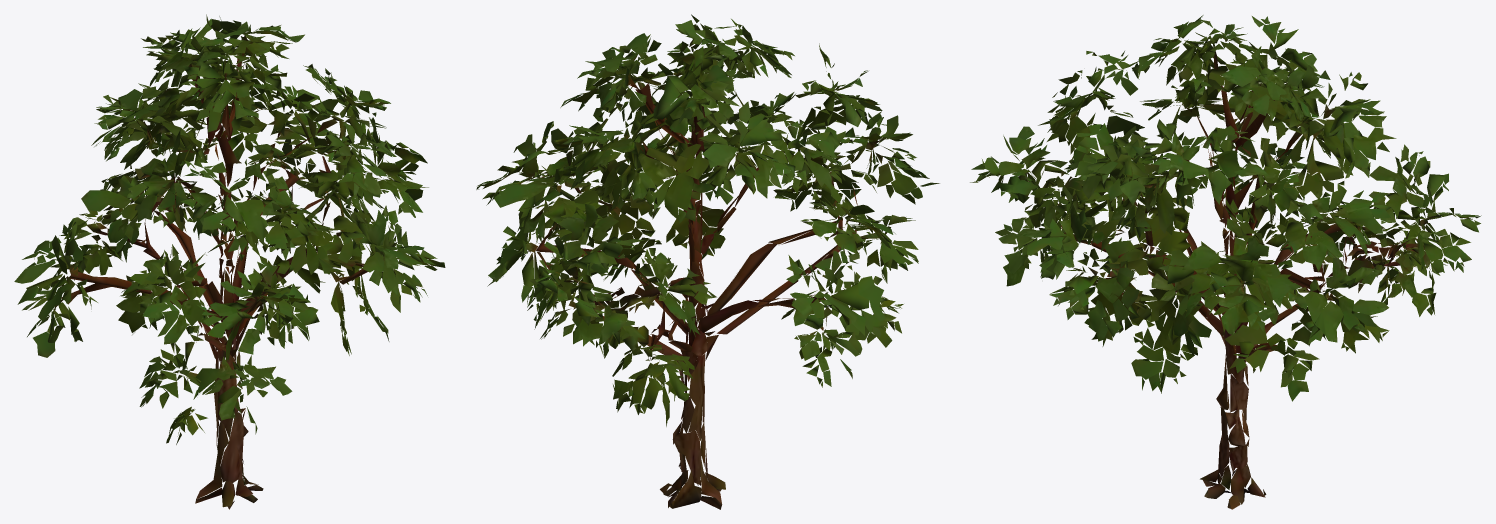
File: tree-oak.glb
3 views of the same model, side by side, from view 1: azimuth 30°, elevation 25°; view 2: azimuth 150°, elevation 25°; view 3: azimuth 270°, elevation 25° (orthographic).
Visible parts, largest first — view 1: tripo_node_8a83103f-0112-4e67-a68f-4468a4c6ffcc; view 2: tripo_node_8a83103f-0112-4e67-a68f-4468a4c6ffcc; view 3: tripo_node_8a83103f-0112-4e67-a68f-4468a4c6ffcc.
Part boxes in pixels (left/top/right/bottom): tripo_node_8a83103f-0112-4e67-a68f-4468a4c6ffcc: left=14, top=14, right=445, bottom=509; tripo_node_8a83103f-0112-4e67-a68f-4468a4c6ffcc: left=476, top=14, right=939, bottom=509; tripo_node_8a83103f-0112-4e67-a68f-4468a4c6ffcc: left=970, top=15, right=1481, bottom=509.
Bounding box in the file's own units: 0.8337 × 0.9737 × 0.9704.
Materials: 1 (1 with a texture image).
